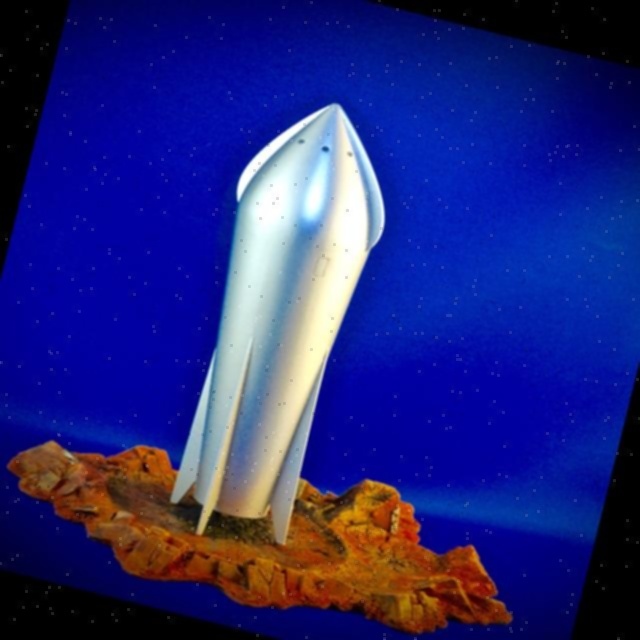rocket: (141, 68, 422, 565)
